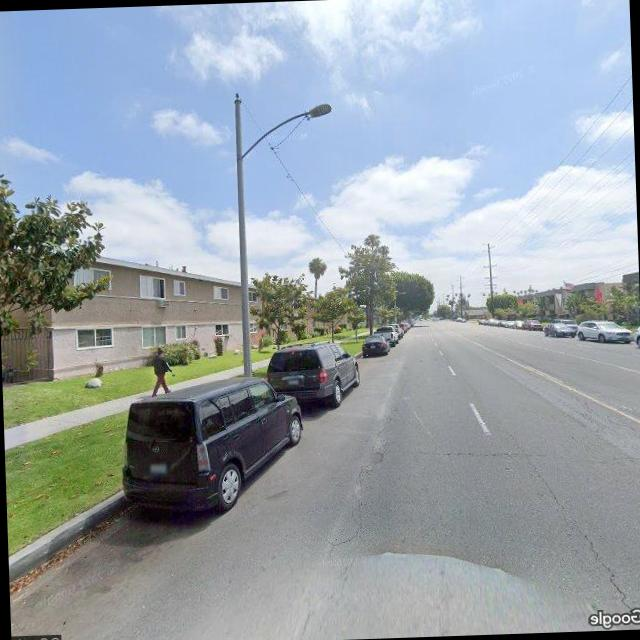crack: (524, 448, 633, 611), (402, 440, 539, 464)
